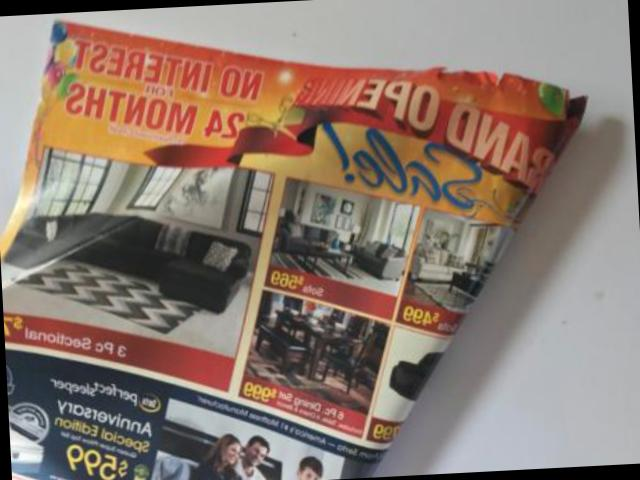cardboard paper: (0, 26, 583, 480)
